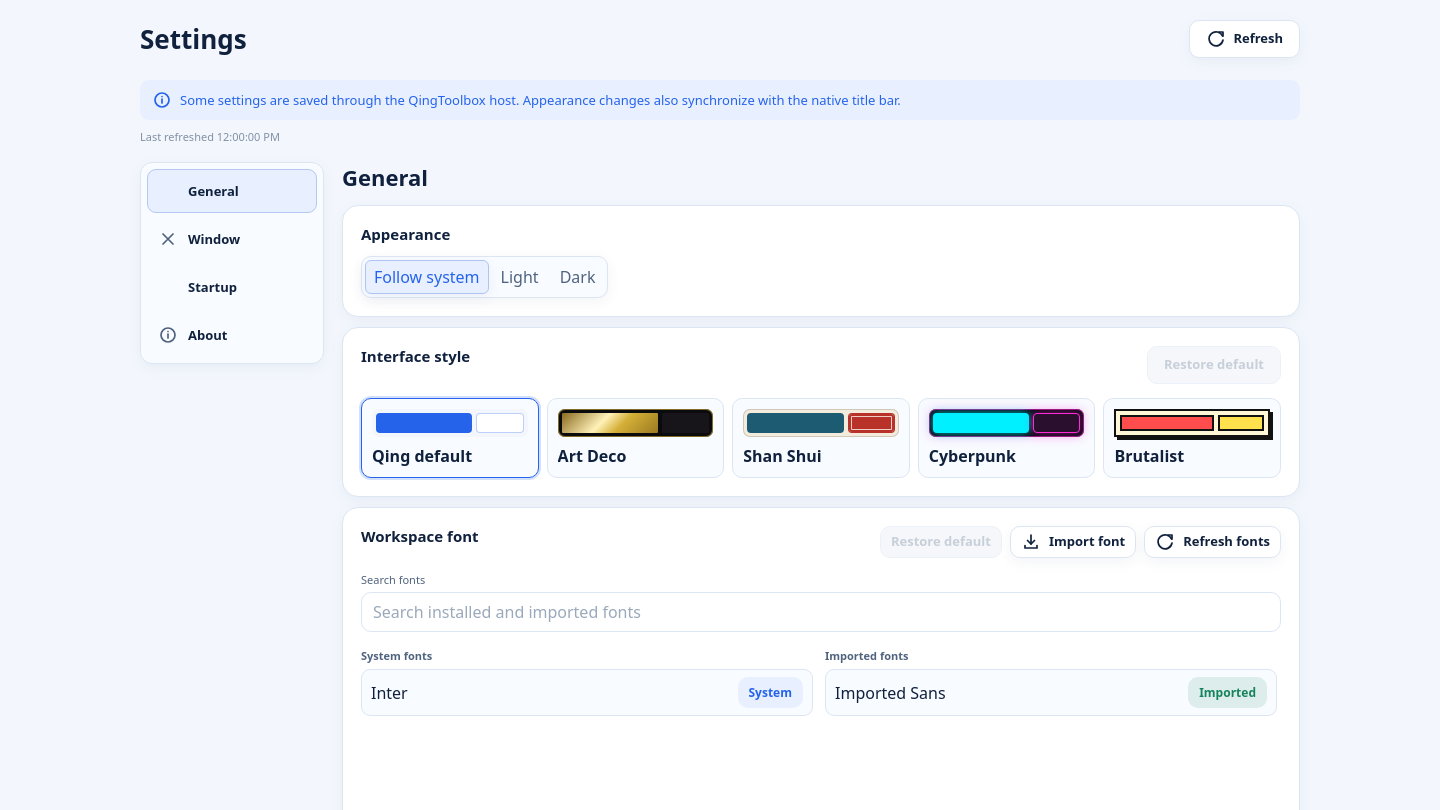
Scenario: SettingsPage information architecture › shows three startup presentation radios
The image size is (1440, 810).
What coordinates should you click on to do the following:
click the button "Startup"
I would click on:
 (232, 287)
Its box is top-left (147, 265), bottom-right (317, 309).
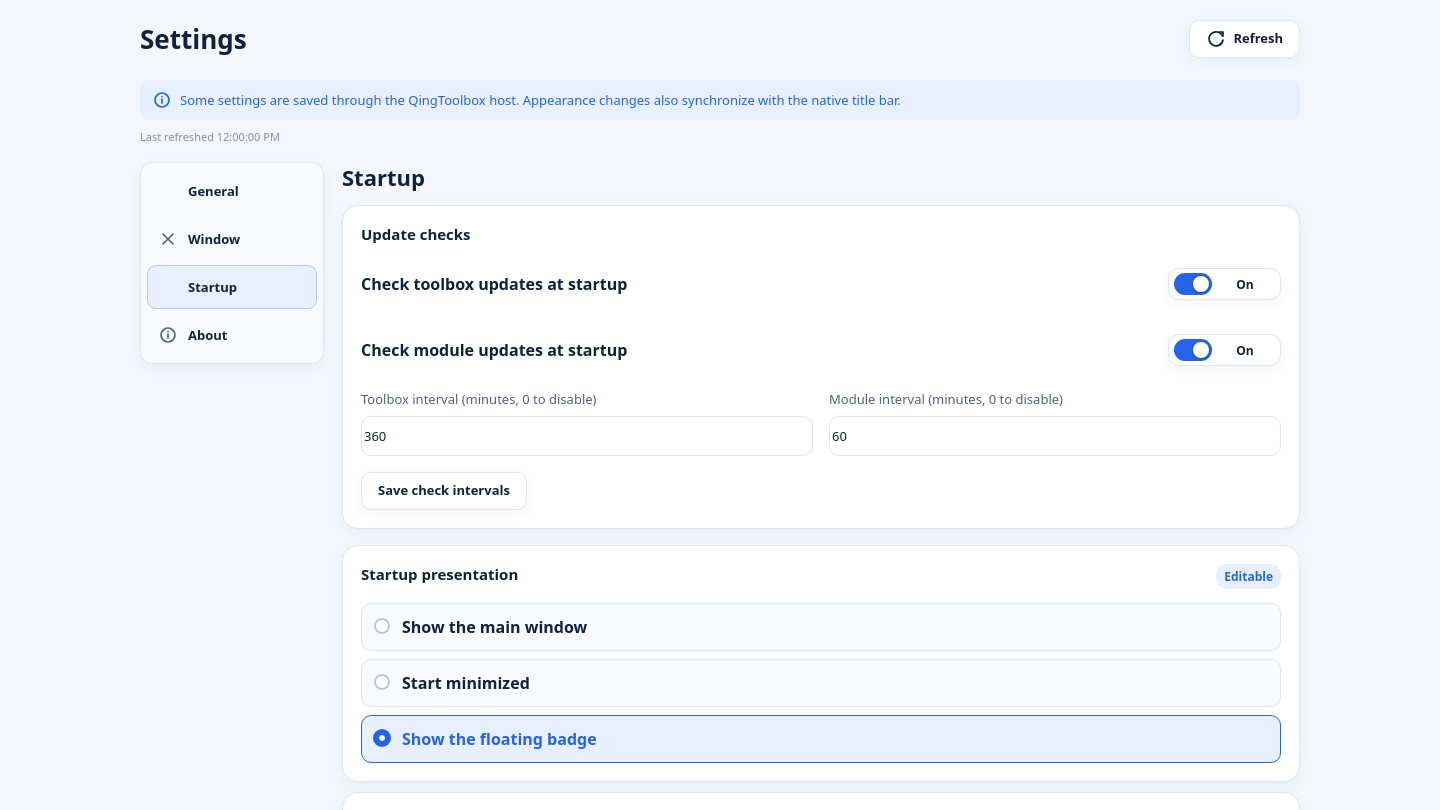
Now the number of radio buttons is 3, box top-left (361, 603), bottom-right (1281, 651); top-left (361, 659), bottom-right (1281, 707); top-left (361, 715), bottom-right (1281, 763)
